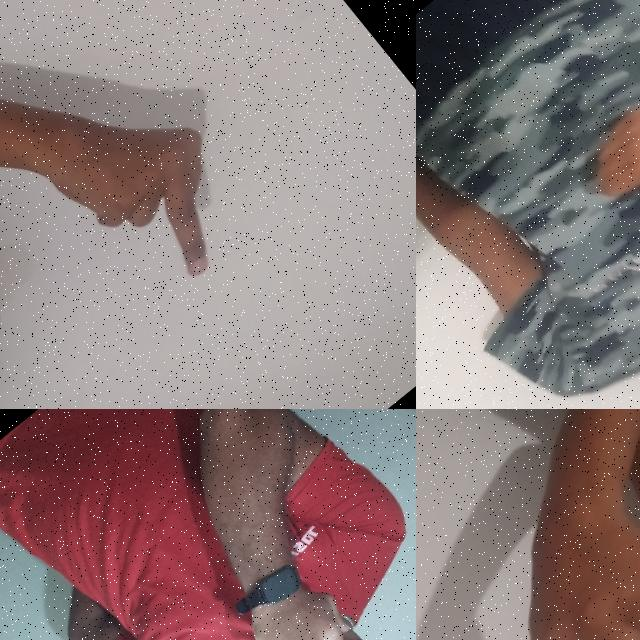Chin Flick: (201, 547, 416, 640)
Middle Finger: (7, 40, 278, 321), (464, 464, 640, 640)
Thumbs Up: (563, 64, 640, 267)
